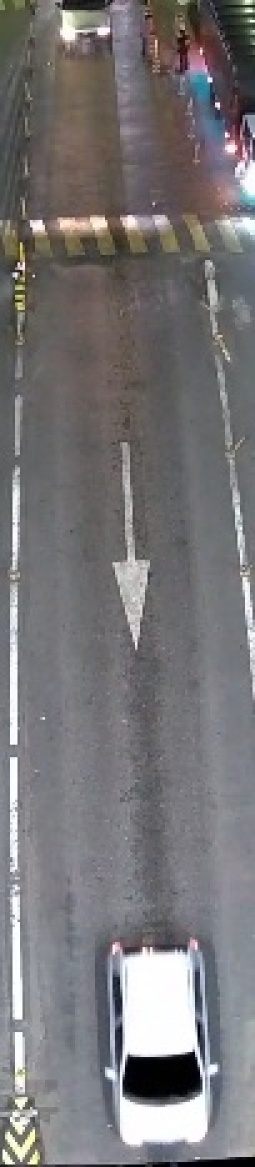car: (92, 917, 227, 1150)
